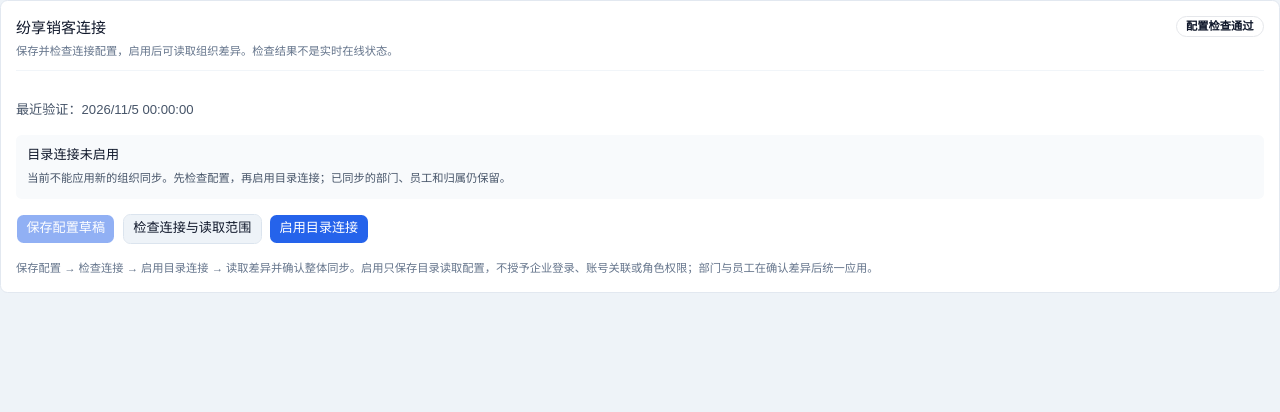
preserves a verification error across the automatic readback and allows another check
Expected: the text "配置检查通过" is shown, [1176,16,1264,37]
Click the button "检查连接与读取范围". click: coordinates (192, 228)
box: [123,214,262,244]
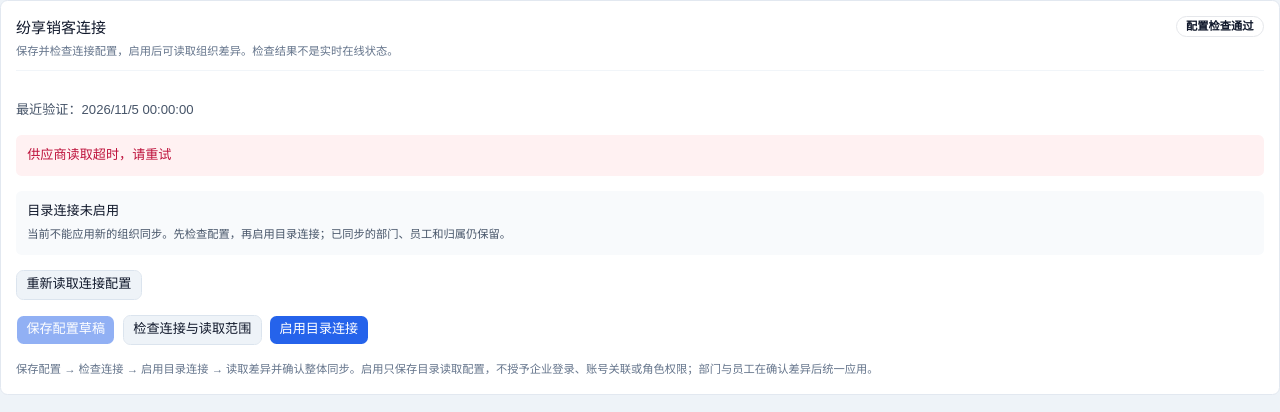
Expected: the button "检查连接与读取范围" is enabled, [123,315,262,345]
Expected: the message reads "供应商读取超时，请重试", [27,147,172,162]
